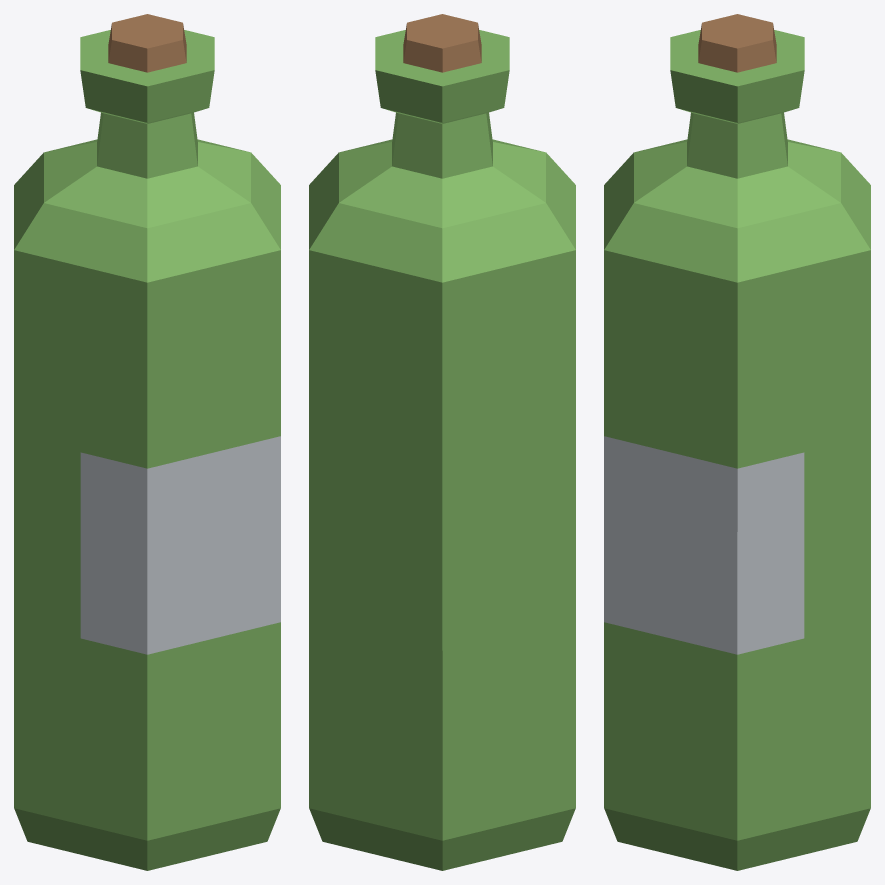
The model's file is Green_Potion_1(Label).fbx.
The picture shows the model from 3 angles, left to right: view 1: azimuth 30°, elevation 25°; view 2: azimuth 150°, elevation 25°; view 3: azimuth 270°, elevation 25°; orthographic projection.
Visible parts, largest first — view 1: Green_Potion_1(Label); view 2: Green_Potion_1(Label); view 3: Green_Potion_1(Label).
Part boxes in pixels (x1,y1,x2,y2): Green_Potion_1(Label): [14, 14, 280, 870]; Green_Potion_1(Label): [309, 14, 575, 870]; Green_Potion_1(Label): [604, 14, 870, 870].
Size of the model in its own units: 13.2 by 36.92 by 11.43.
